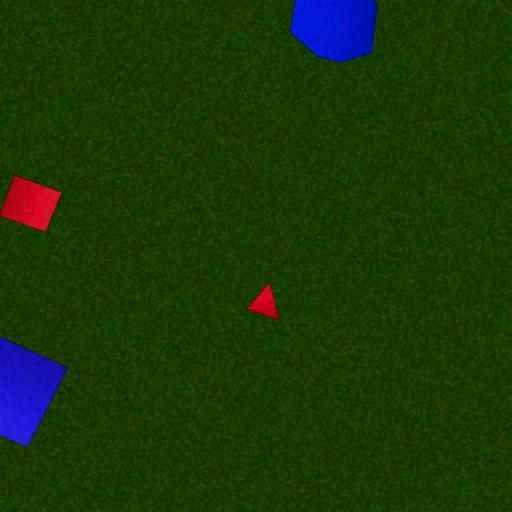BLUE_SQUARE: (0, 327, 69, 448)
RED_SQUARE: (0, 174, 62, 232)
